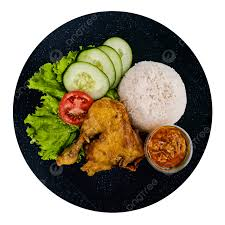Ayam goreng: (51, 100, 147, 176)
Nasi putih: (117, 59, 189, 130)
